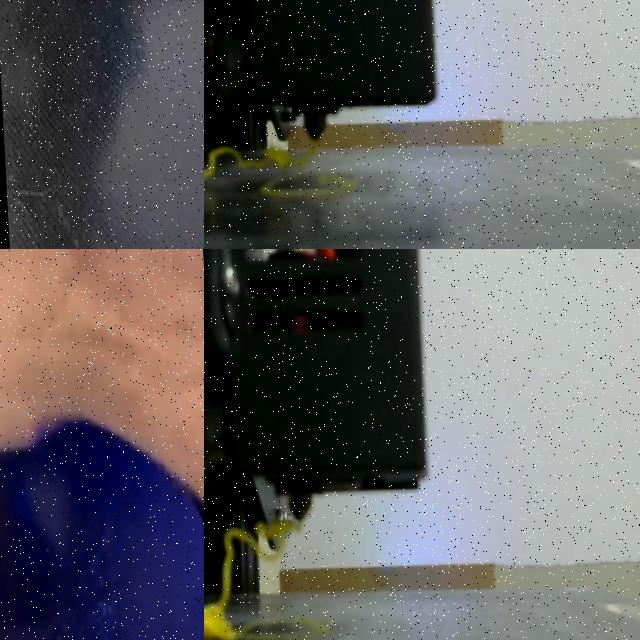spaghetti: (204, 527, 264, 639), (204, 146, 313, 182), (255, 522, 298, 550)
